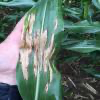Corn leaf blight: (22, 1, 62, 99)
